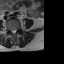CCS_normal: (13, 28, 14, 36)
LFS_stenosis: (16, 26, 18, 31)
LLS_normal: (14, 28, 16, 34)
RFS_severe_stenosis: (9, 27, 11, 32)
RLS_normal: (11, 28, 13, 34)
